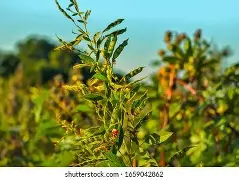crops: (0, 4, 235, 168)
